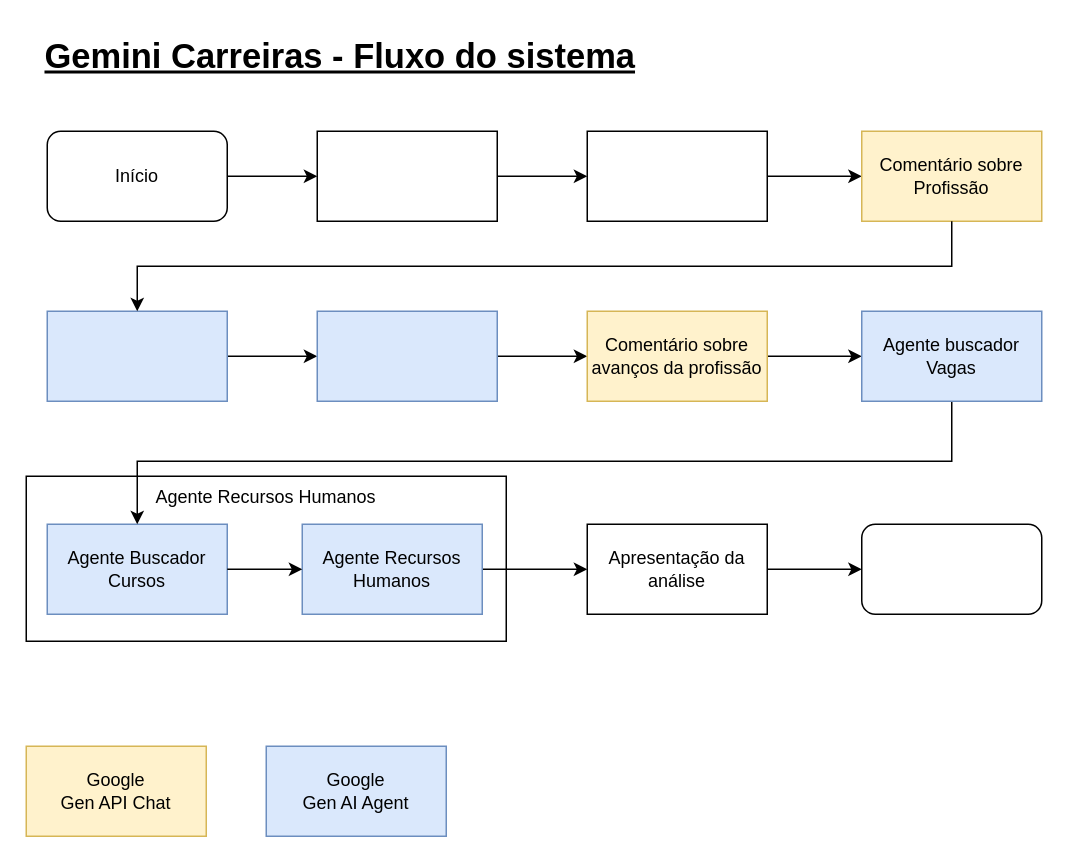
Some shapes in this 1068 by 863 pixel diagram are drawn without their labels. The shapes that lost their labels are listed below. From the top down, each one's centre as x and y in pixels, then its label:
point 406,175: Boas vindas e mensagem dados pessoais
point 676,175: Coleta de informações
point 136,355: Agente Tradução
point 406,355: Agente Proteção Dados (LGPD)
point 951,568: Fim
